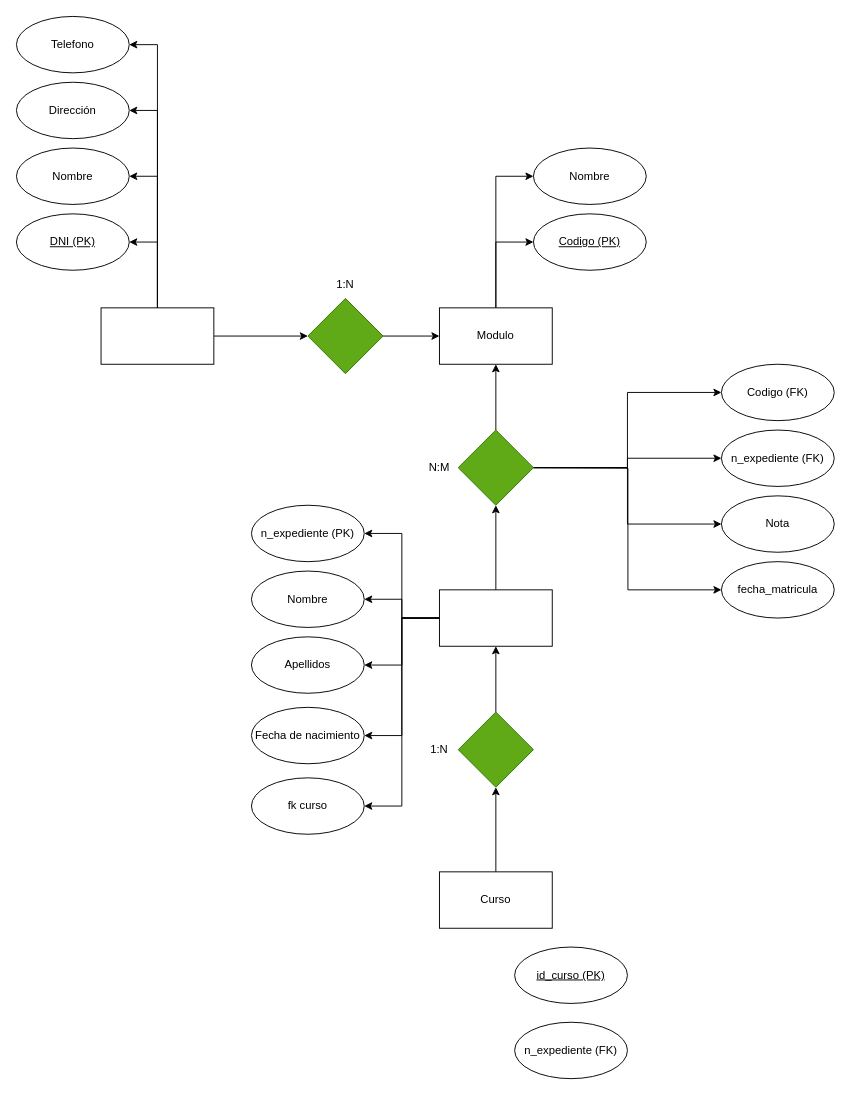
Image size: 851x1095. Some labels were removed from this diagram. The shapes that lost their labels are listed below. From the top down, each one's centre as x and y in pixels, then its label:
(x=157, y=335): Profesor
(x=345, y=336): imparte
(x=495, y=467): matricula
(x=495, y=617): Alumno
(x=495, y=749): pertenece
